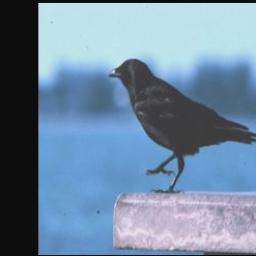Crow: (106, 53, 256, 195)
